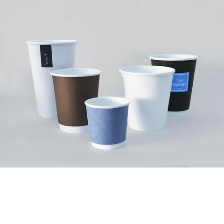paper_cup: (24, 33, 80, 123), (115, 61, 177, 133), (48, 63, 104, 136), (146, 49, 200, 118), (81, 92, 132, 152)
